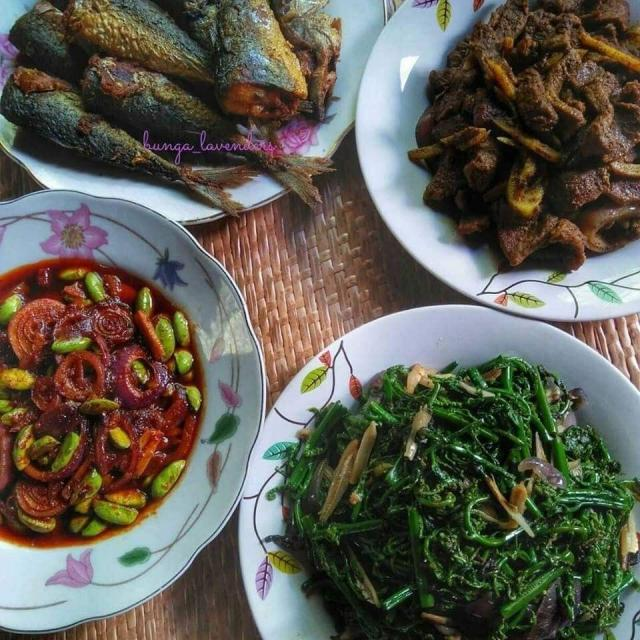ikan goreng: (0, 64, 333, 220), (10, 0, 343, 124)
kangkung: (285, 350, 640, 640)
